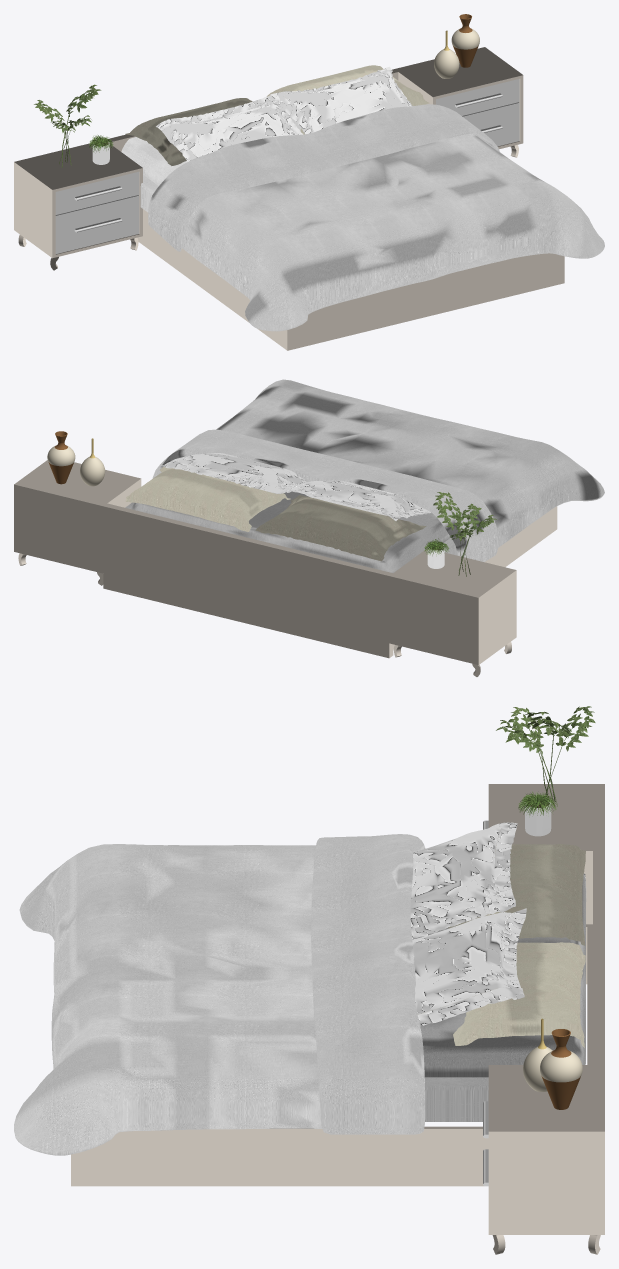
File: bed_2.glb
3 views of the same model, one above another, from view 1: azimuth 30°, elevation 25°; view 2: azimuth 150°, elevation 25°; view 3: azimuth 270°, elevation 25° (orthographic). The views are drawn at different scales.
Parts seen in each view (by area): view 1: BEd_23510; view 2: BEd_23510; view 3: BEd_23510.
Part boxes in pixels (x1,y1,x2,y2): BEd_23510: (14, 14, 604, 350); BEd_23510: (14, 379, 604, 676); BEd_23510: (14, 706, 604, 1254).
Size of what is drawn, in the model's own units: 4.27 by 1.39 by 3.07.
Materials: 13 (5 with a texture image).
